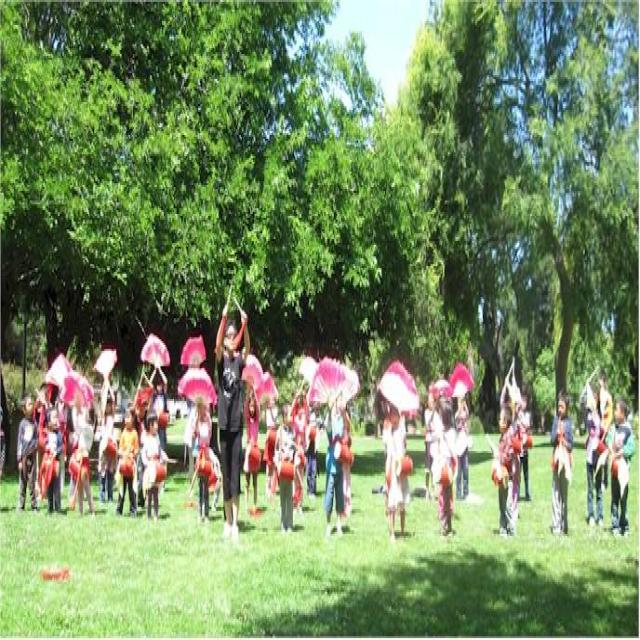non-fight: (214, 283, 250, 542), (425, 378, 460, 538), (270, 402, 305, 534), (607, 394, 637, 530), (551, 388, 576, 534), (384, 398, 409, 542), (323, 394, 347, 538), (115, 403, 144, 517), (493, 405, 518, 537), (16, 389, 42, 513)
